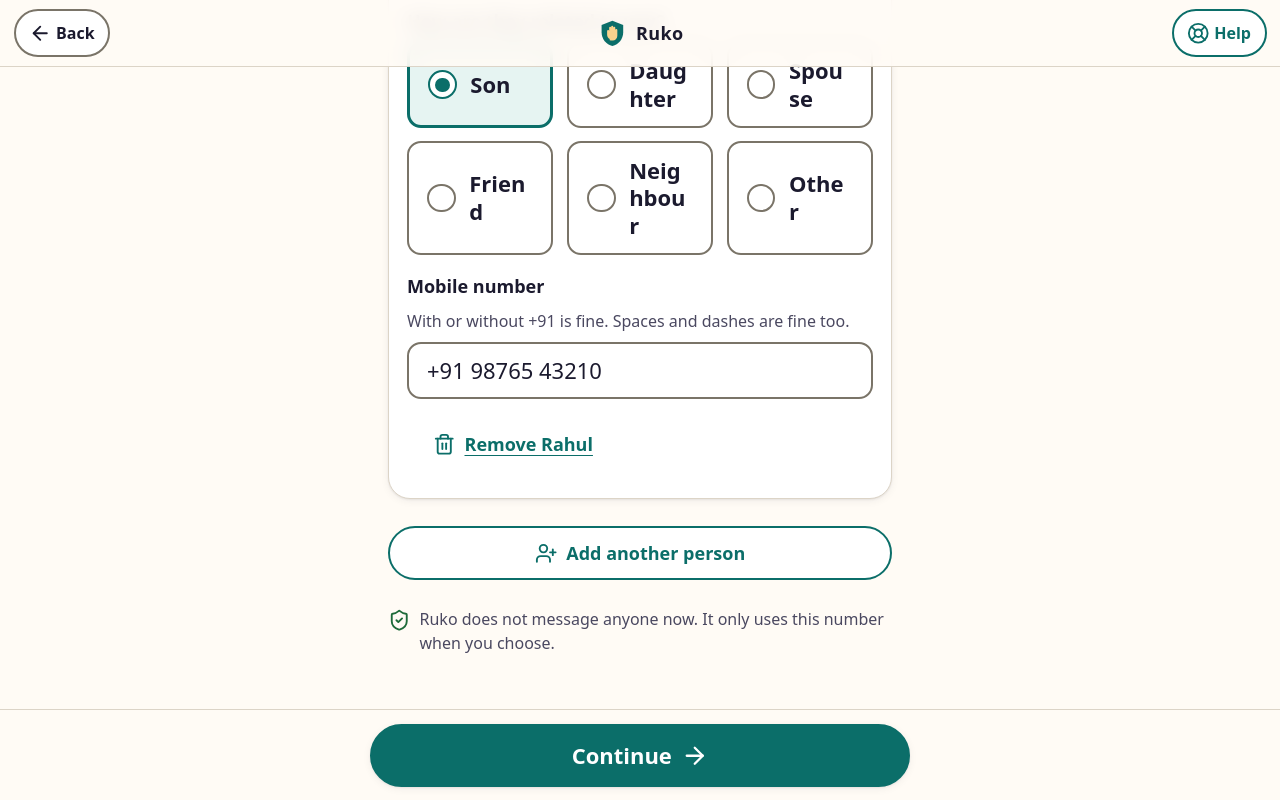
Test: setup flow › person: removing the only person leaves an empty card, and Undo brings them back
(page scrolled)
Click the button "Remove Rahul". click: coordinates (513, 444)
box: [407,417,619,471]
(page scrolled)
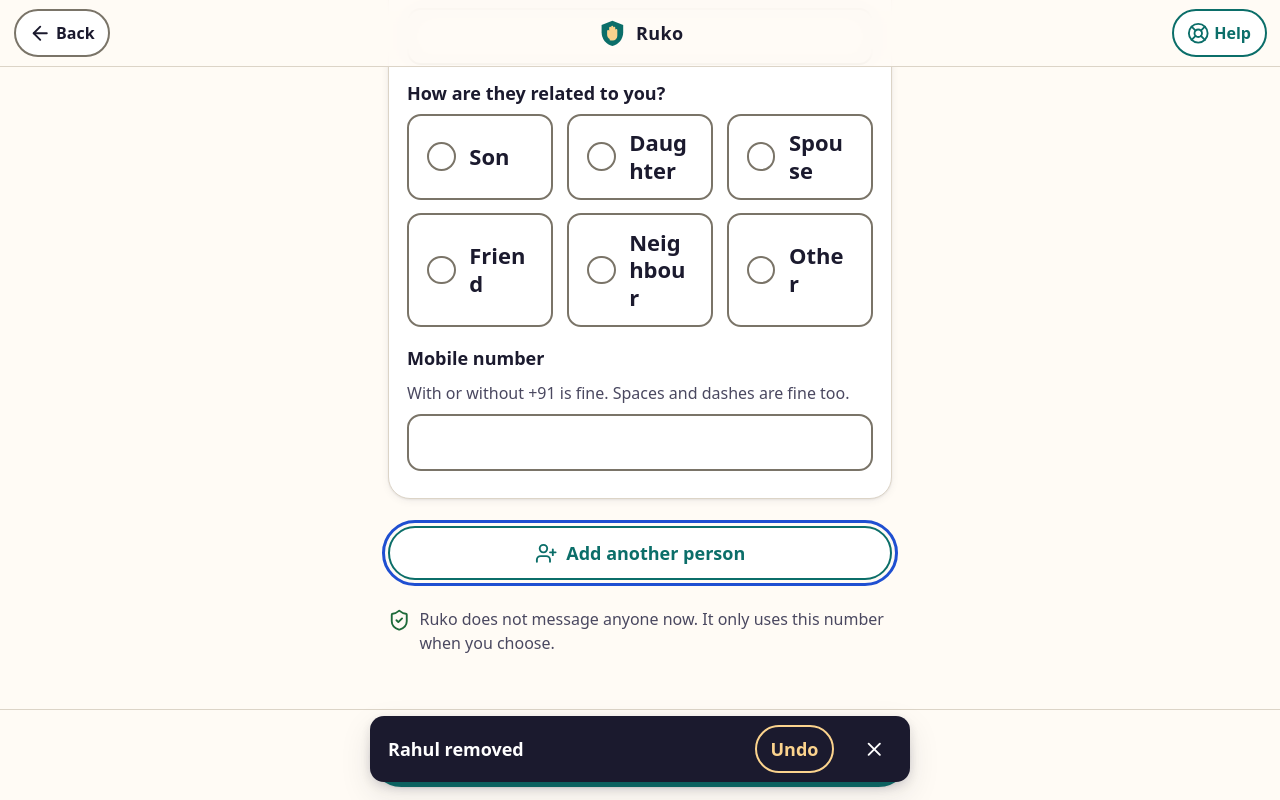
Click the button "Undo". click: coordinates (794, 749)
box: [755,725,834,773]
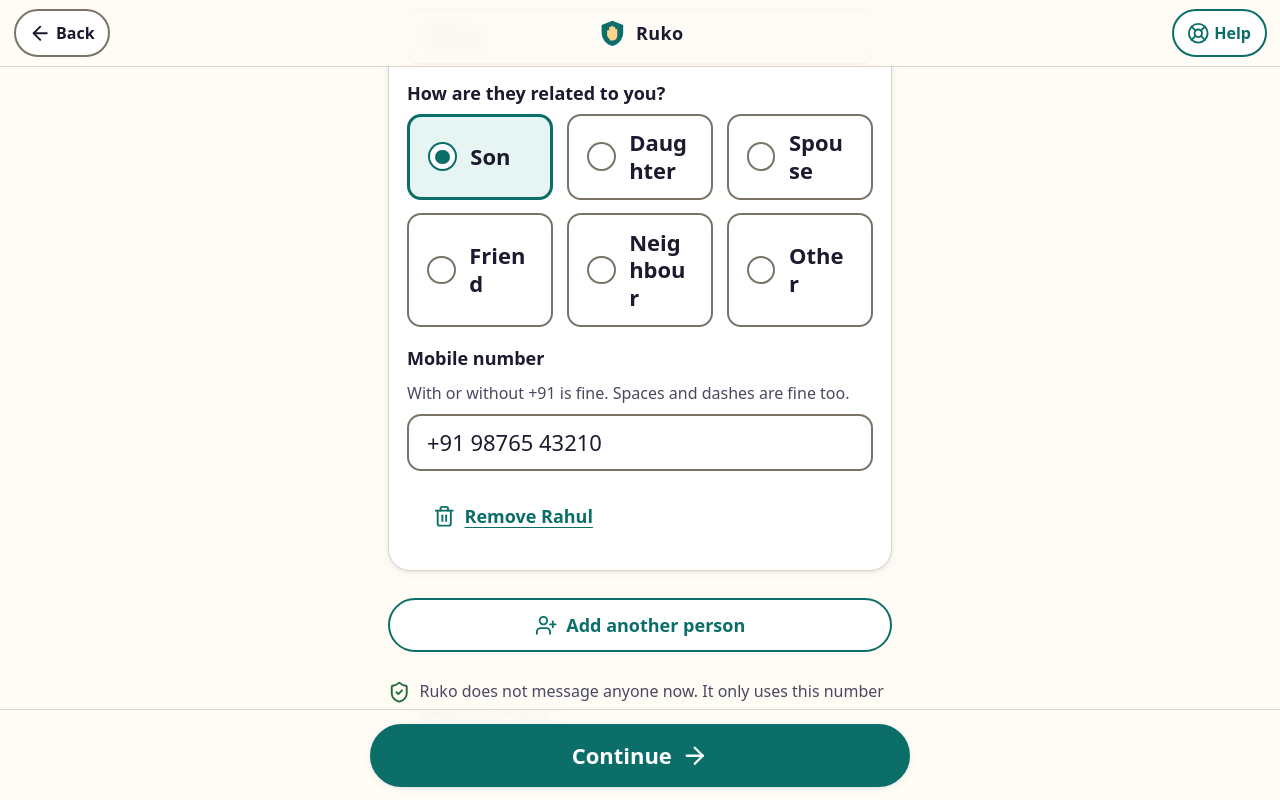
expect the number of fields labelled "Their name" is 1: met, box [407,8,873,65]
